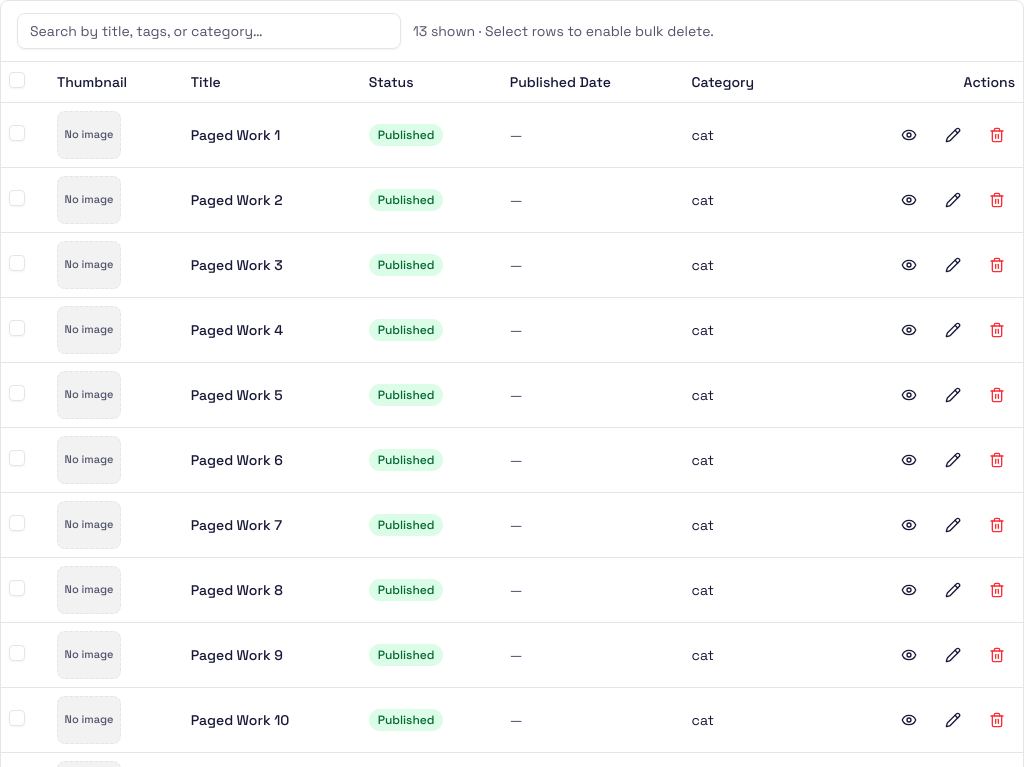
admin bulk selection tables › clears works bulk selection when moving to another page
This screenshot has width=1024, height=767.
Click the checkbox named "Select Paged Work 1" at coordinates (17, 132), box x1=9 y1=124 x2=25 y2=140
(page scrolled)
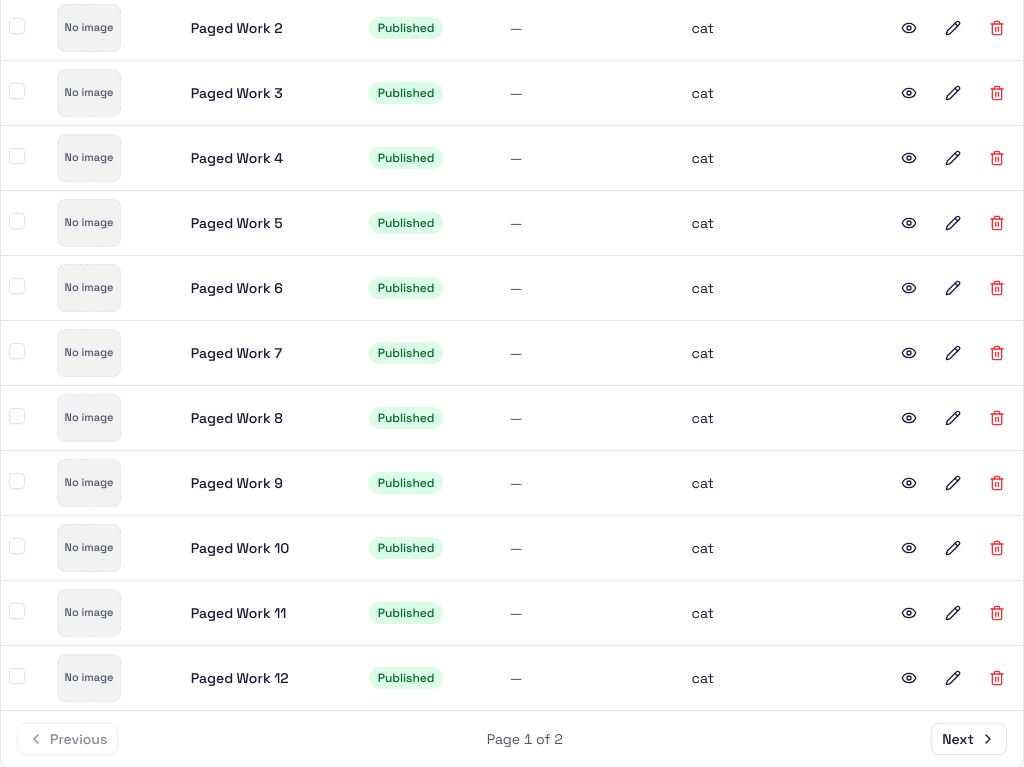
Click the button with aria-label "Next page" at coordinates (969, 738), box x1=931 y1=722 x2=1007 y2=754
(page scrolled)
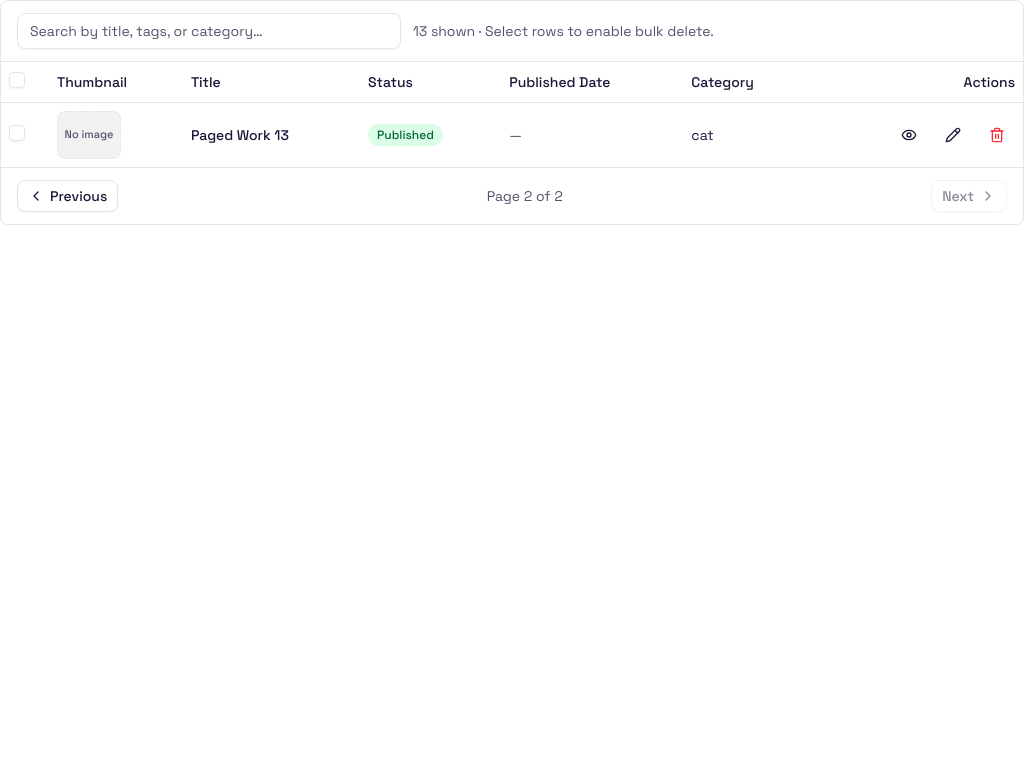
Expected: the link "Paged Work 13" is shown, x1=191 y1=126 x2=289 y2=144
